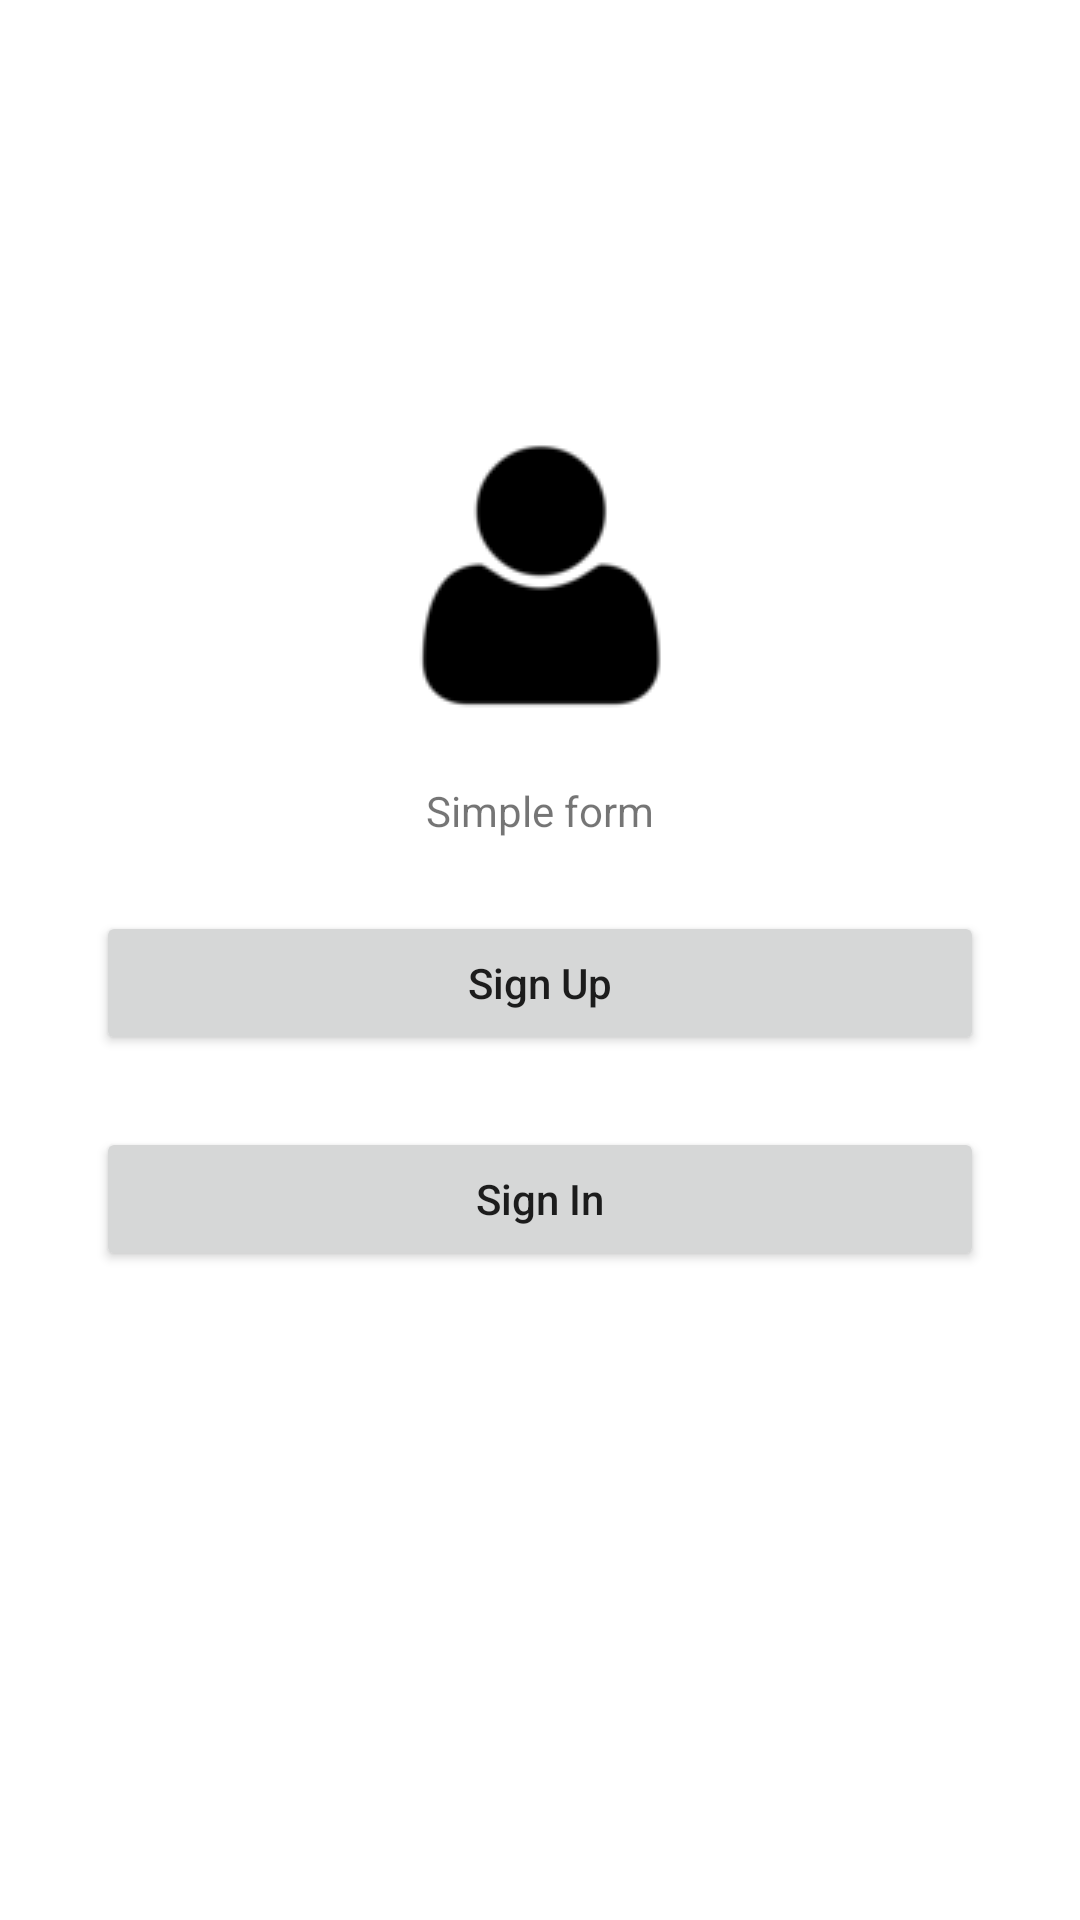

Where icons sit on this 1080 x 1920 app screen, as [x1=x1, y1=y1, x2=x2, y2=y2]:
User avatar: [x1=421, y1=445, x2=661, y2=706]
